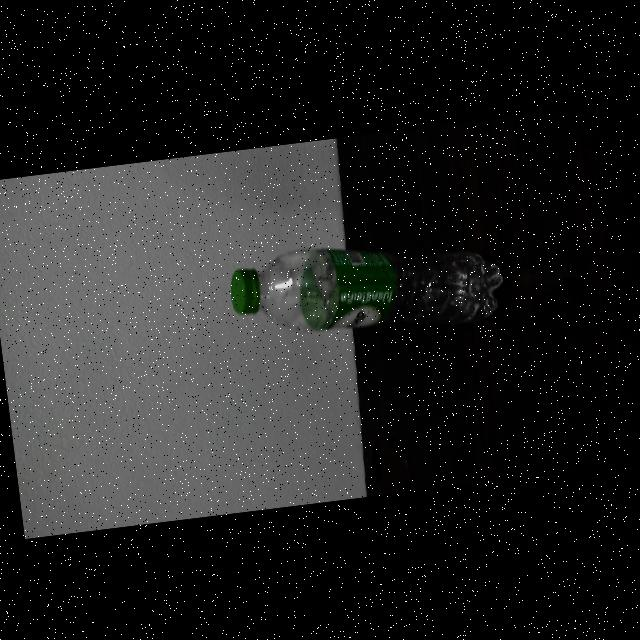plastic_bottle: (215, 218, 523, 366)
plastic_bottle_cap: (224, 263, 264, 315)
